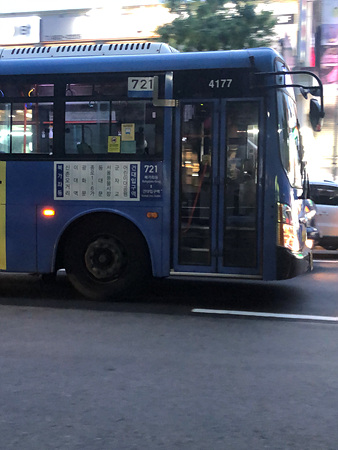entrance: (175, 97, 263, 278)
